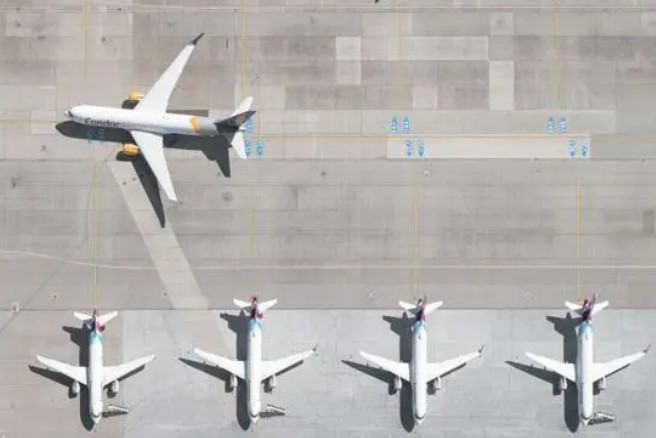plane: (64, 32, 256, 203), (526, 292, 652, 428), (358, 295, 486, 426), (194, 293, 315, 425), (35, 307, 156, 425)
